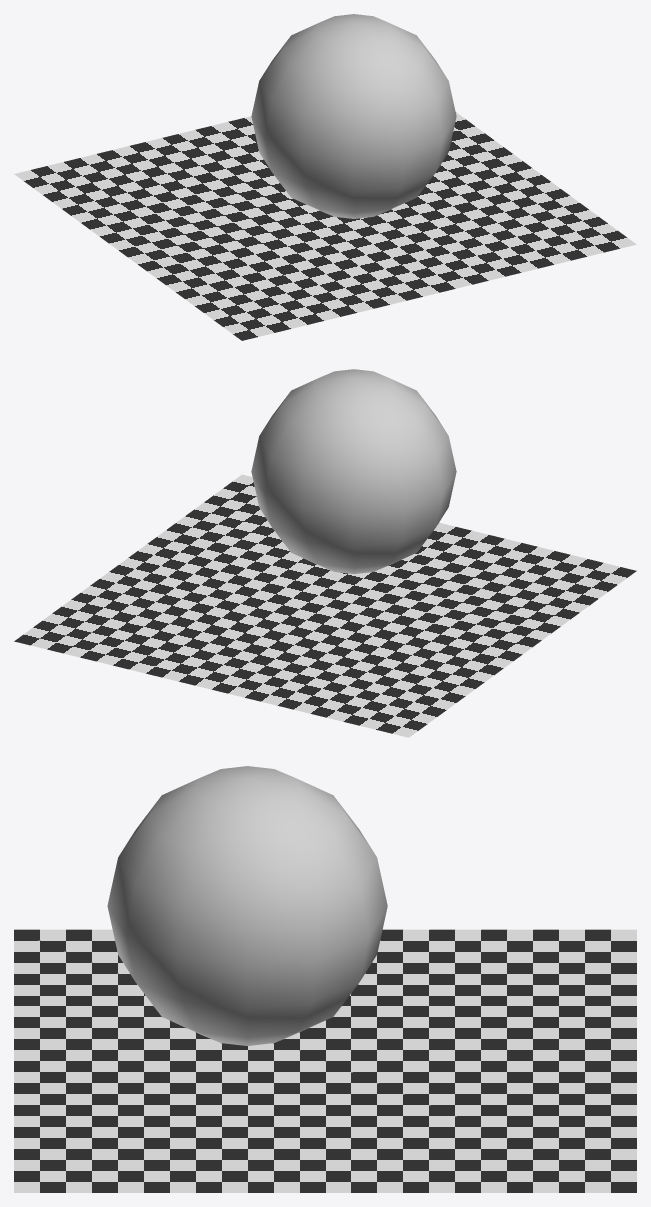
3 views of the same model, one above another, from view 1: azimuth 30°, elevation 25°; view 2: azimuth 150°, elevation 25°; view 3: azimuth 270°, elevation 25° (orthographic). The views are drawn at different scales.
Parts seen in each view (by area): view 1: SpecularSphere; view 2: SpecularSphere; view 3: SpecularSphere.
Part boxes in pixels (x1,y1,x2,y2): SpecularSphere: [14, 14, 636, 340]; SpecularSphere: [14, 369, 636, 737]; SpecularSphere: [14, 766, 636, 1192].
Bounding box in the file's own units: 4 × 2 × 4.
1 material, 1 textured.
